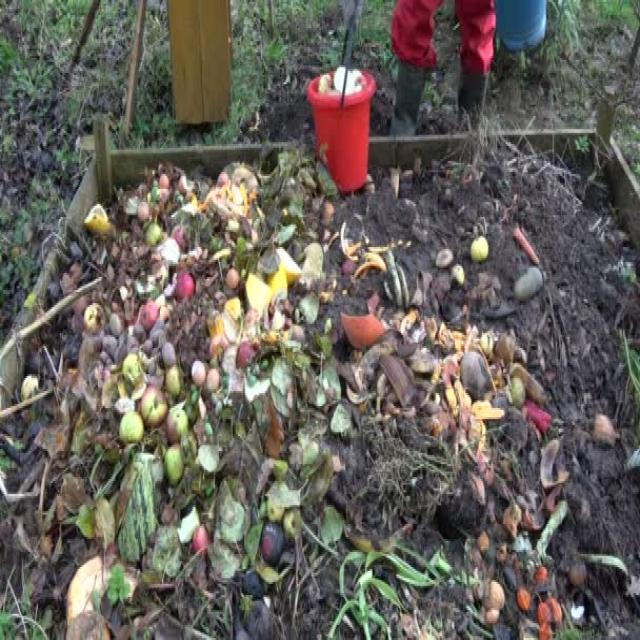Organic: (68, 164, 557, 640), (399, 306, 508, 496), (144, 382, 177, 437), (312, 67, 367, 98), (354, 243, 394, 276), (23, 369, 41, 431), (119, 414, 145, 454)
